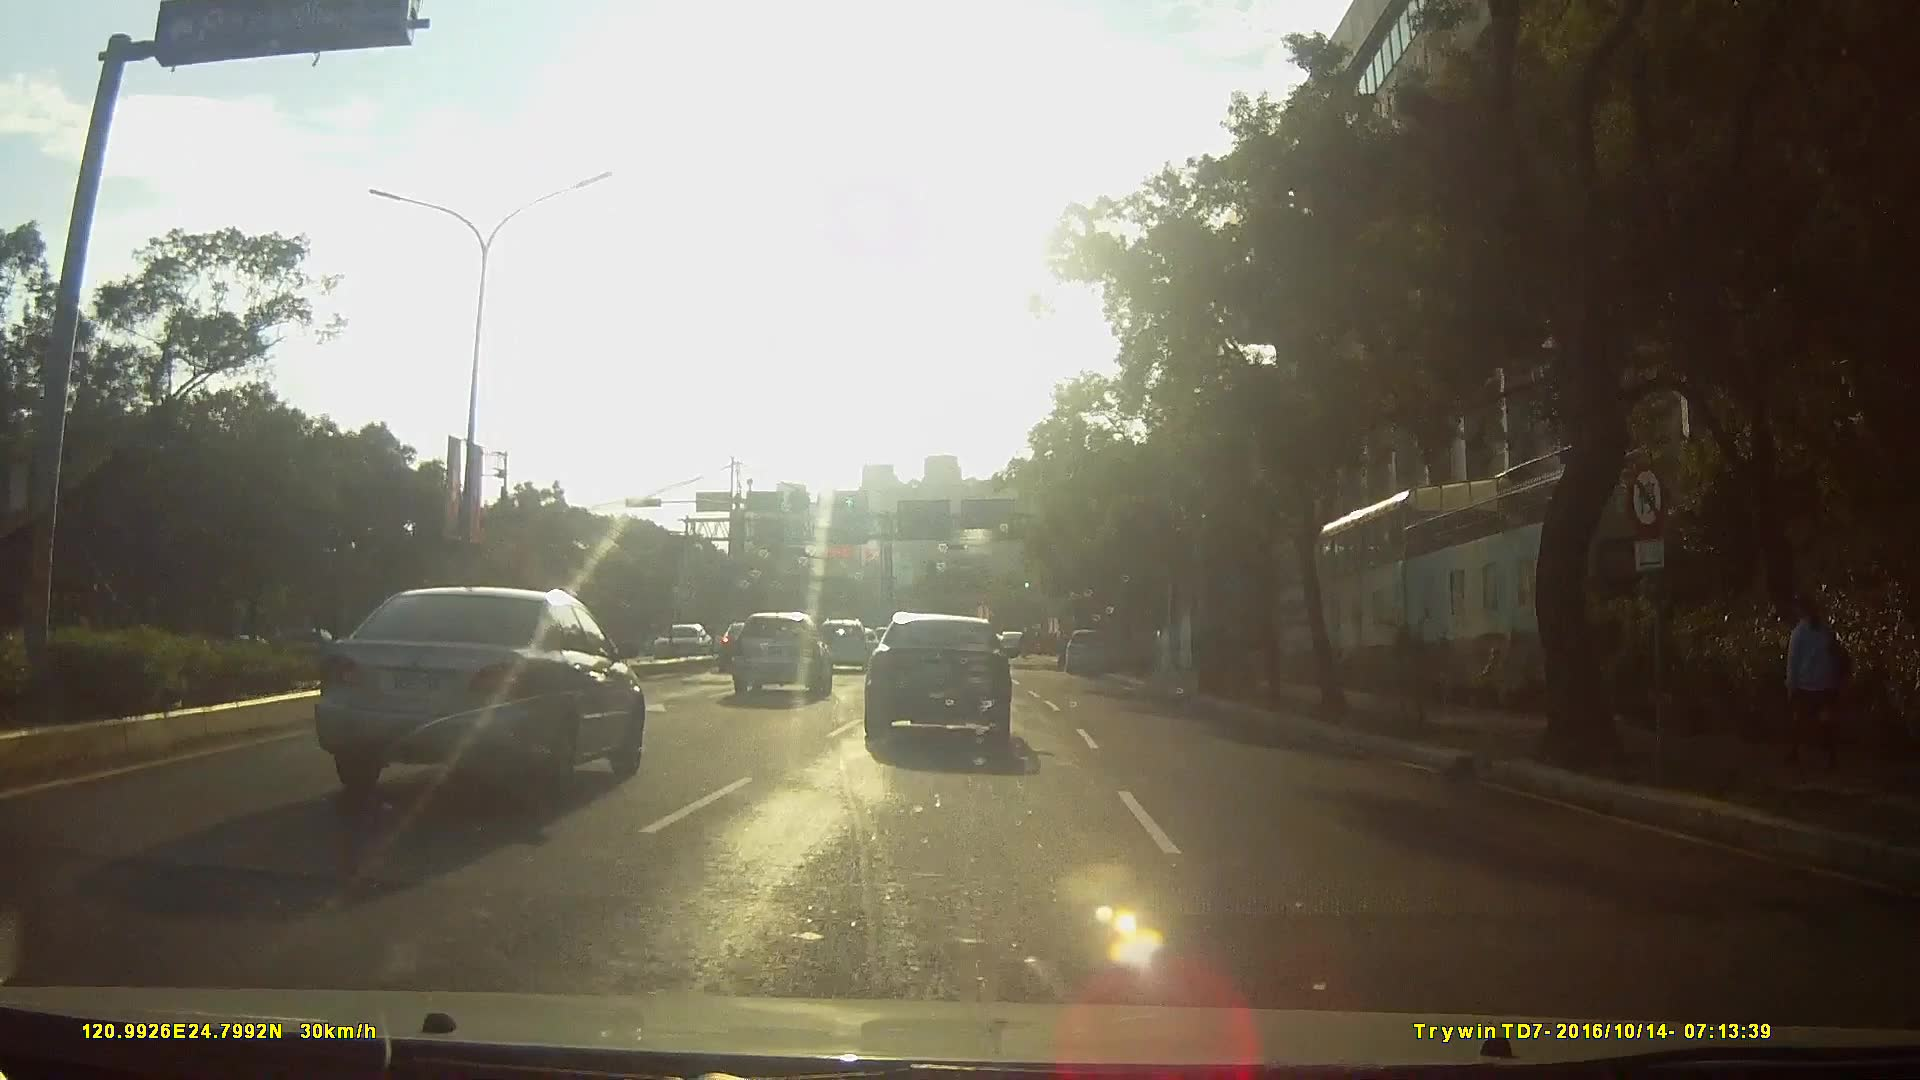pedestrian: (1785, 587, 1854, 775)
vehicle: (287, 582, 657, 813), (864, 611, 1036, 758), (725, 610, 830, 702), (645, 618, 724, 666), (809, 618, 870, 676), (1060, 630, 1113, 679)
